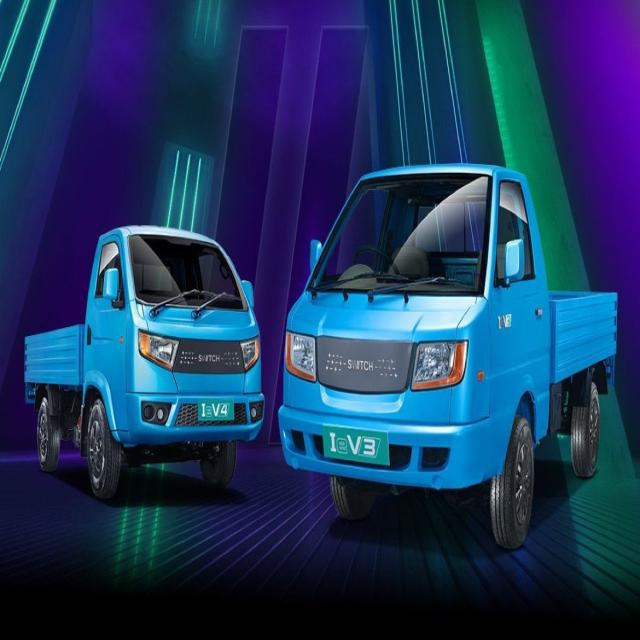truck: (279, 166, 618, 548), (24, 225, 265, 500)
